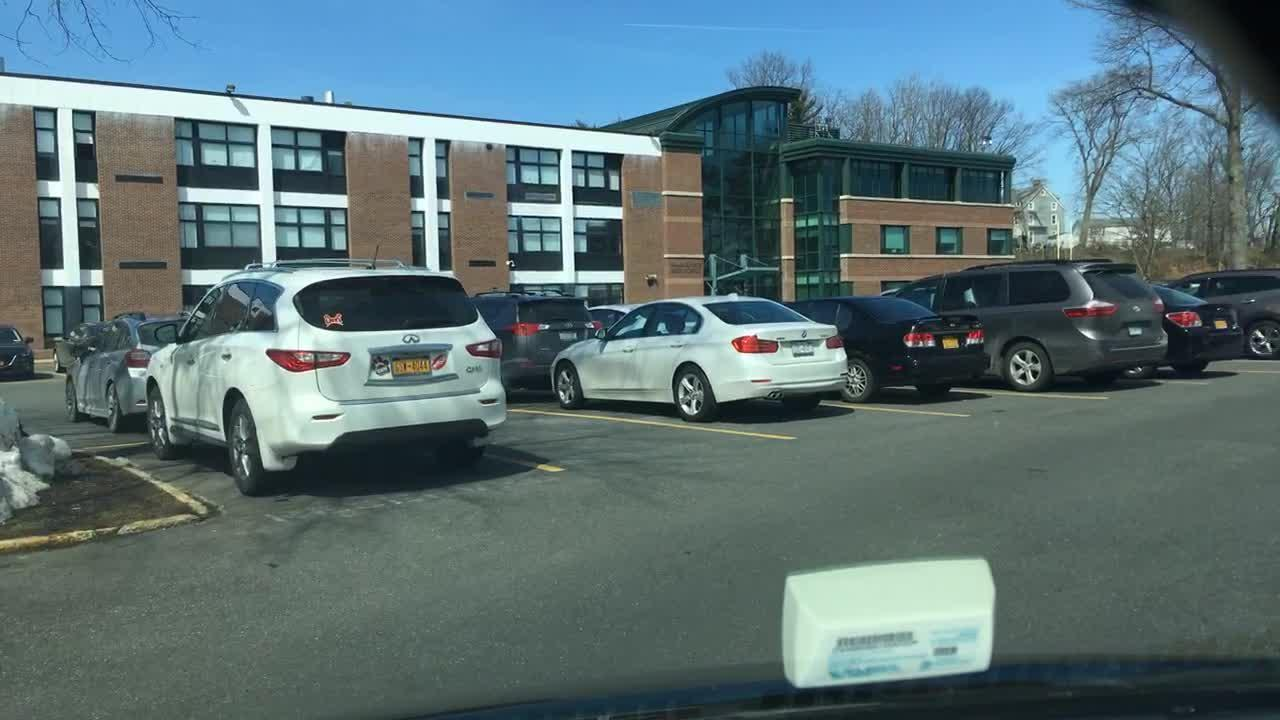Infiniti: (392, 328, 425, 347)
